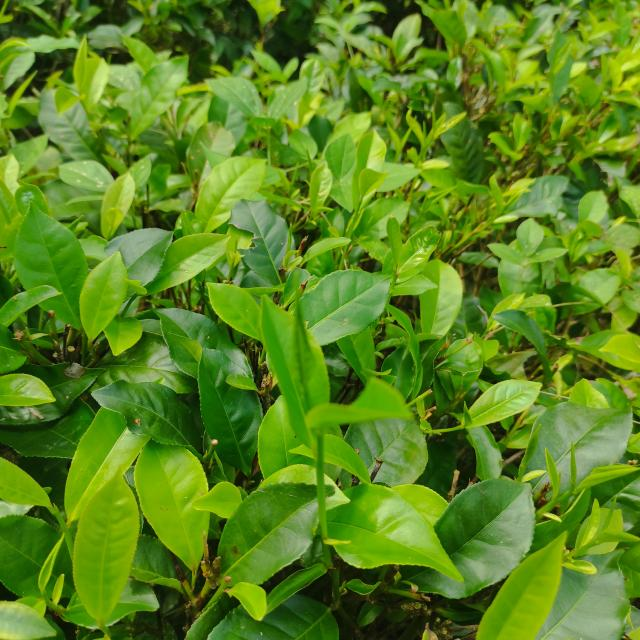unopened_leaf: (286, 268, 328, 440), (34, 526, 70, 602), (588, 490, 628, 550), (492, 173, 543, 220), (540, 439, 570, 506), (566, 436, 584, 504), (457, 392, 477, 435), (283, 161, 305, 191), (416, 119, 432, 157), (304, 200, 340, 216)
